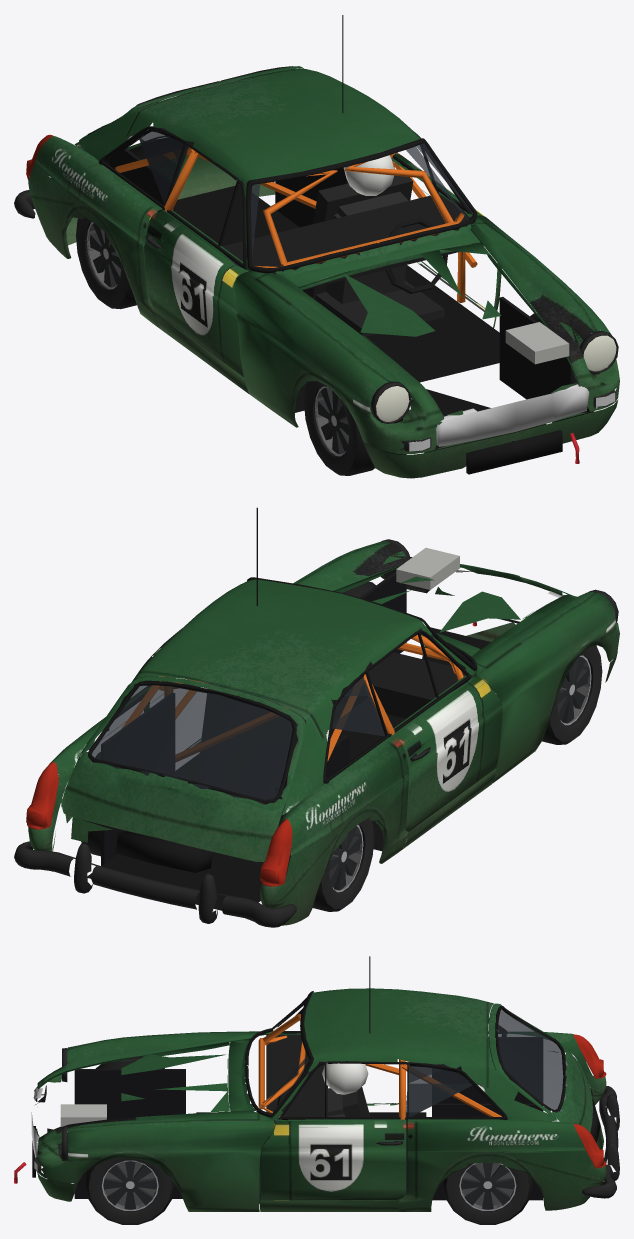
The picture shows the model from 3 angles, top to bottom: view 1: azimuth 30°, elevation 25°; view 2: azimuth 150°, elevation 25°; view 3: azimuth 270°, elevation 25°; orthographic projection. The views are drawn at different scales.
Parts seen in each view (by area): view 1: body, wheel_fr, wheel_rr; view 2: body, wheel_fr, wheel_rr; view 3: body, wheel_fl, wheel_rl.
Boxes of the visible parts, x1=… form: body: x1=14, y1=15, x2=619, y2=478; wheel_fr: x1=304, y1=381, x2=385, y2=475; wheel_rr: x1=76, y1=217, x2=136, y2=309; body: x1=14, y1=507, x2=619, y2=927; wheel_fr: x1=542, y1=645, x2=602, y2=744; wheel_rr: x1=290, y1=817, x2=374, y2=911; body: x1=14, y1=956, x2=619, y2=1211; wheel_fl: x1=85, y1=1157, x2=174, y2=1224; wheel_rl: x1=443, y1=1162, x2=532, y2=1224.
Size of the model in its own units: 1.6 by 1.71 by 3.92.
2 materials, 1 textured.
